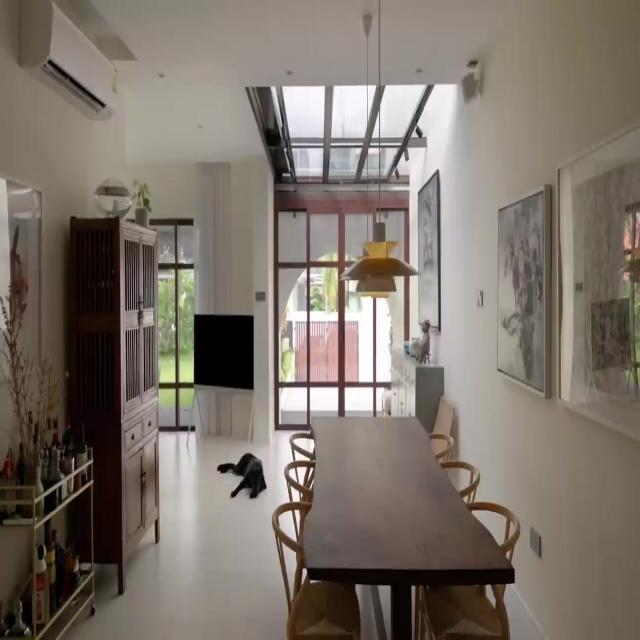obstacle: (301, 414, 515, 638), (68, 215, 160, 595), (0, 444, 96, 640)
